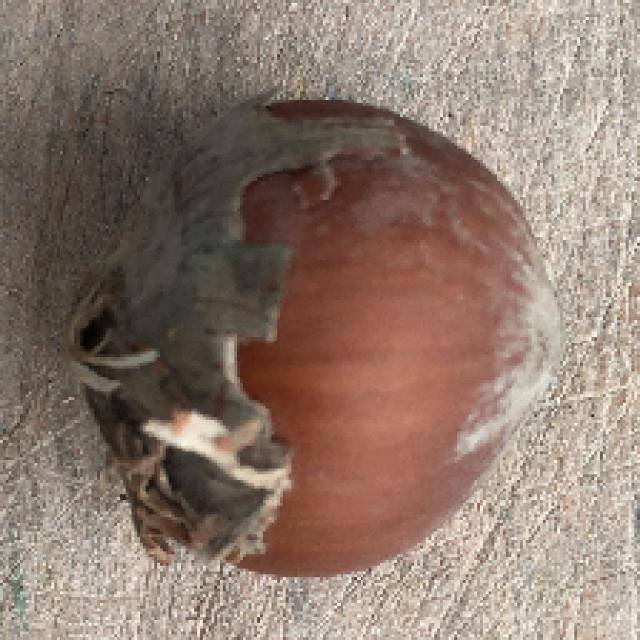damagedHazelnut: (84, 95, 562, 575)
